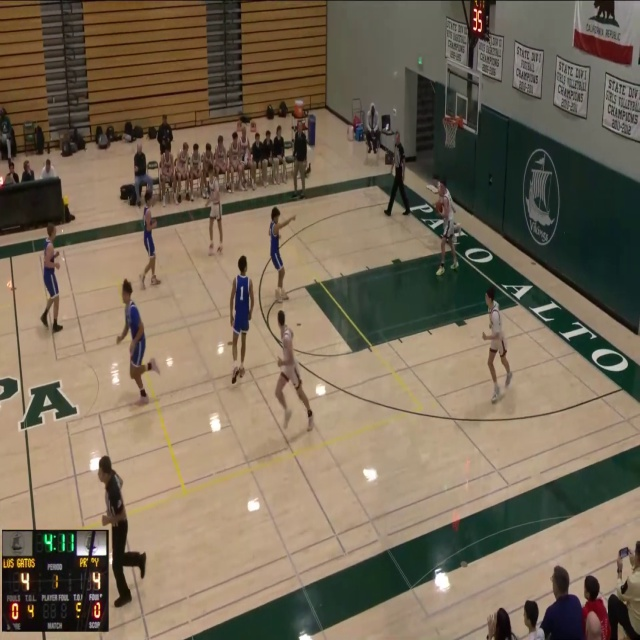Basketball: (435, 200, 444, 214)
